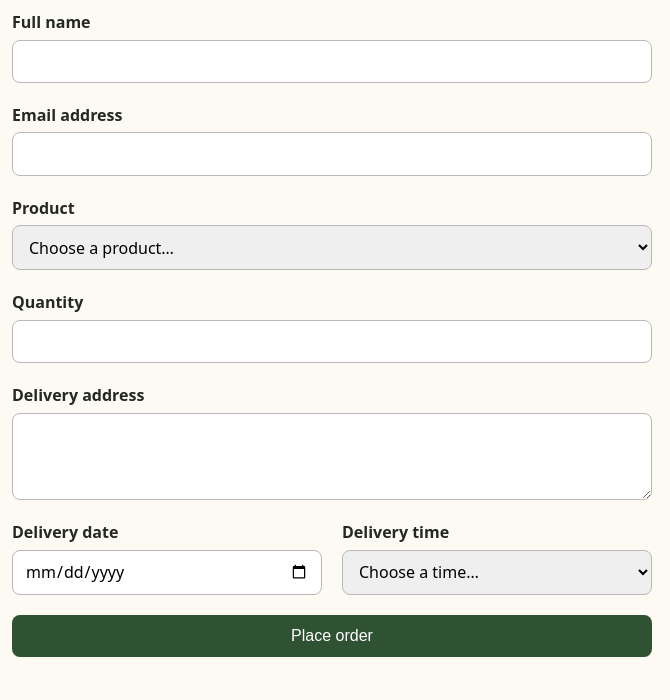
Test: OrderForm › marks the quantity field invalid after it is touched with an out-of-range value
The width and height of the screenshot is (670, 700).
Type "0" into the number field labelled "Quantity".
click(332, 342); type("0")  # box [12, 320, 652, 363]
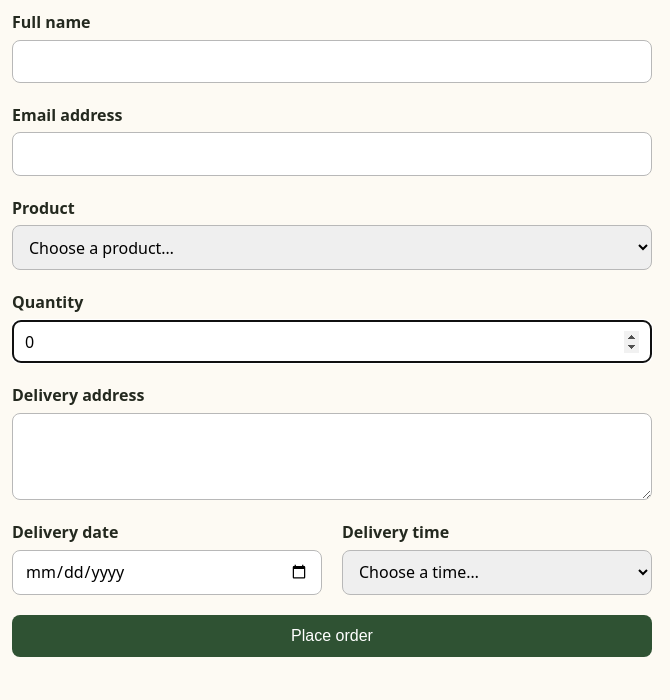
Press Tab
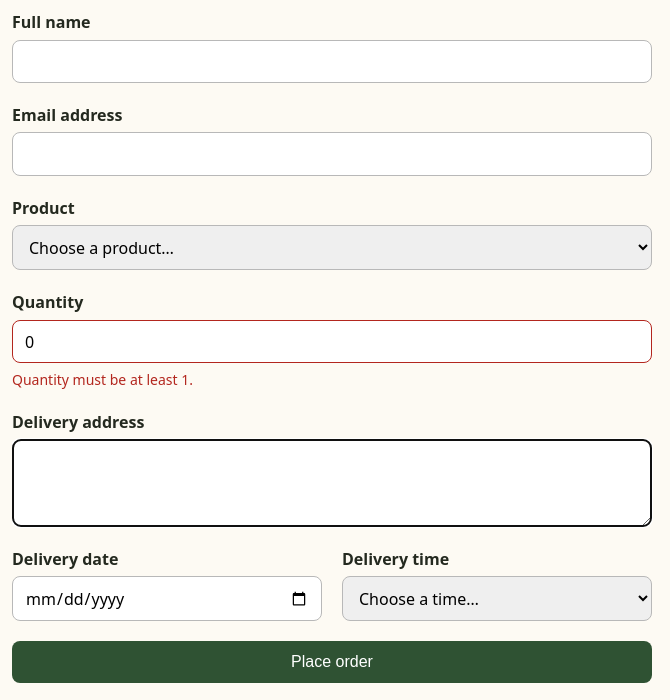
Expected: the text "Quantity must be at least 1." is shown, [12, 370, 193, 389]
